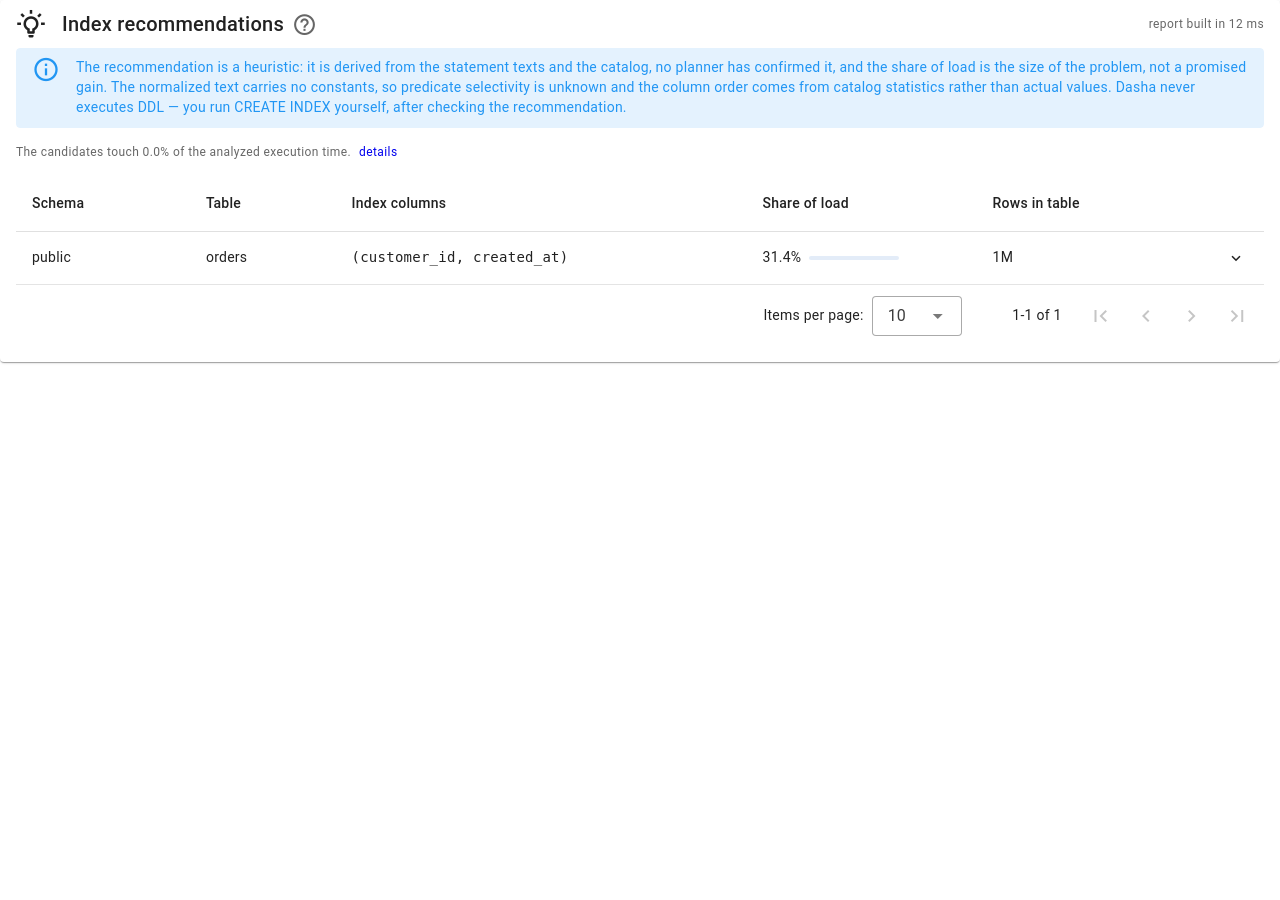
Test case: IndexAdvisorSection › falls back to the bare code when the backend grows a warning this build does not know
The image size is (1280, 900).
Click the 1st button. click: coordinates (1236, 258)
box: [1216,238,1256,278]
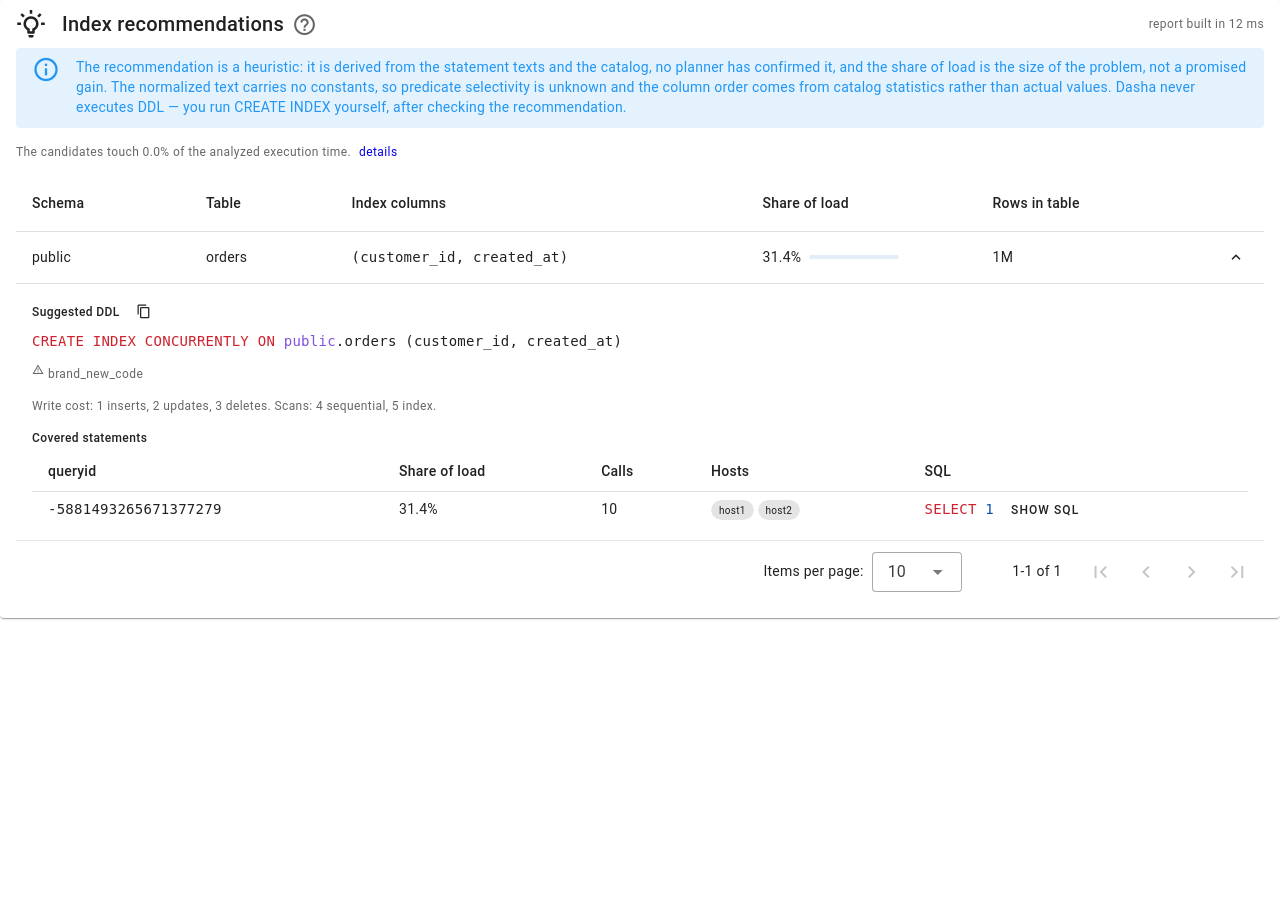
Expected: the text "brand_new_code" is shown, [48,364,143,384]
